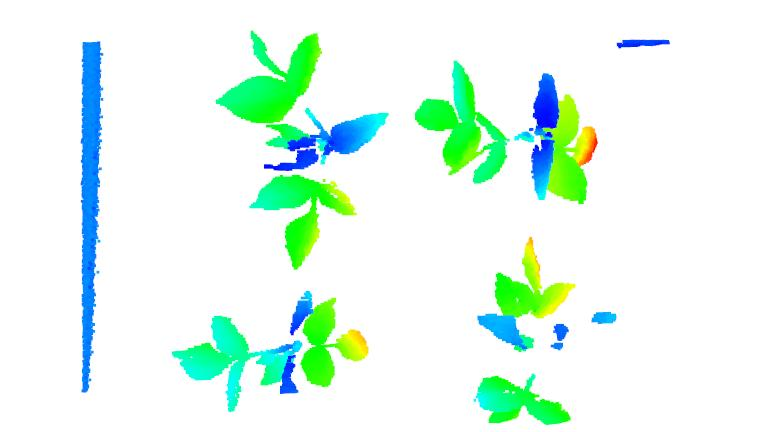mungbean: (215, 28, 390, 268), (415, 55, 603, 210), (167, 292, 370, 415), (477, 230, 582, 432)
